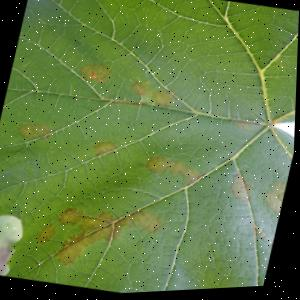Folha: (0, 0, 300, 300)
Fungo: (142, 152, 205, 187), (115, 205, 166, 238), (225, 172, 263, 211), (15, 118, 55, 145), (77, 59, 114, 87), (264, 179, 288, 218), (57, 204, 87, 230), (144, 154, 174, 178), (148, 88, 178, 111), (91, 138, 119, 161), (37, 221, 59, 247), (128, 81, 150, 99), (88, 71, 99, 80)
